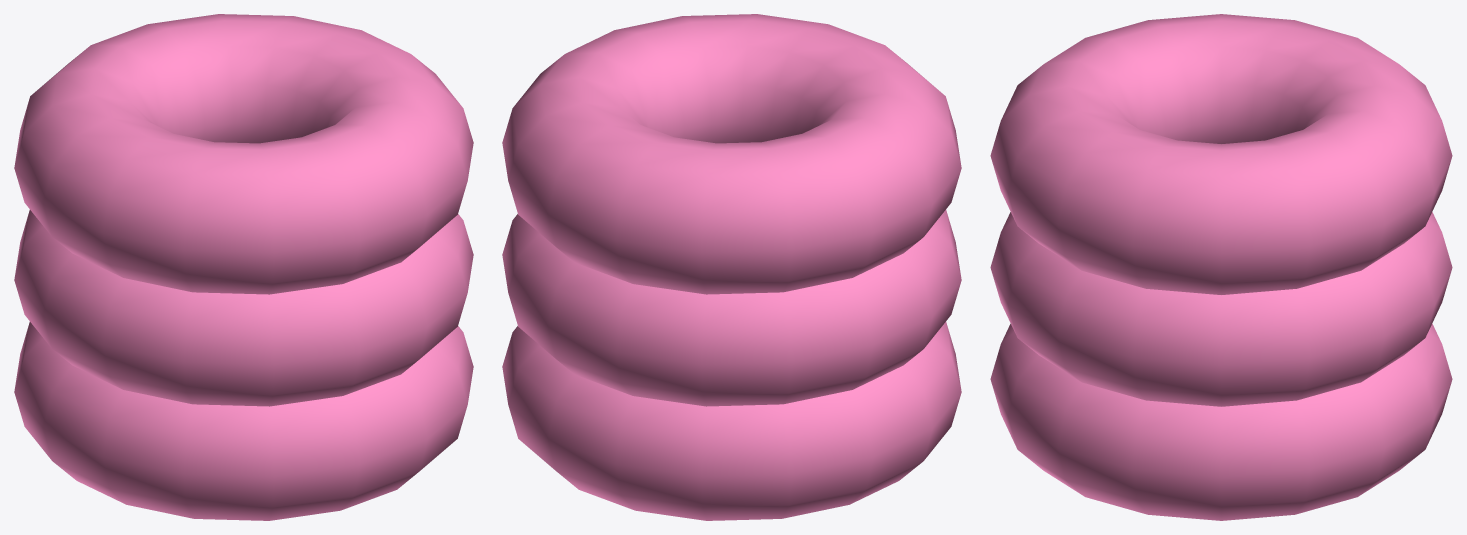
Rendered from pinkTorus.fbx.
The picture shows the model from 3 angles, left to right: view 1: azimuth 30°, elevation 25°; view 2: azimuth 150°, elevation 25°; view 3: azimuth 270°, elevation 25°; orthographic projection.
Visible parts, largest first — view 1: pinkTorus; view 2: pinkTorus; view 3: pinkTorus.
Part boxes in pixels (x1=…): pinkTorus: x1=14, y1=14, x2=473, y2=520; pinkTorus: x1=502, y1=14, x2=961, y2=520; pinkTorus: x1=990, y1=14, x2=1452, y2=520.
Size of the model in its own units: 510 by 442 by 510.
